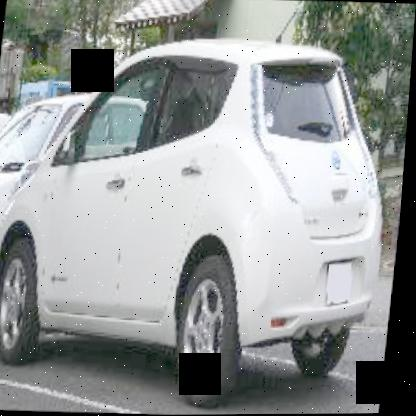not_emergency: (0, 12, 414, 387)
